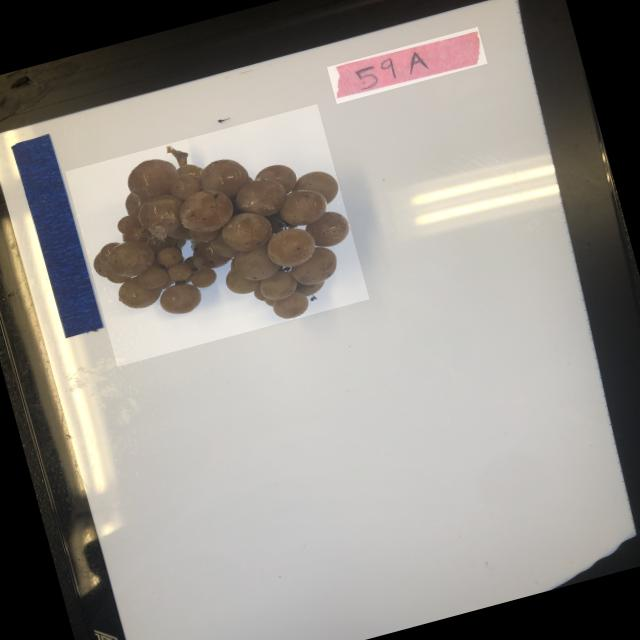grape_cluster: (65, 104, 369, 366)
index: (327, 26, 488, 104)
measure_label: (8, 131, 106, 340)
